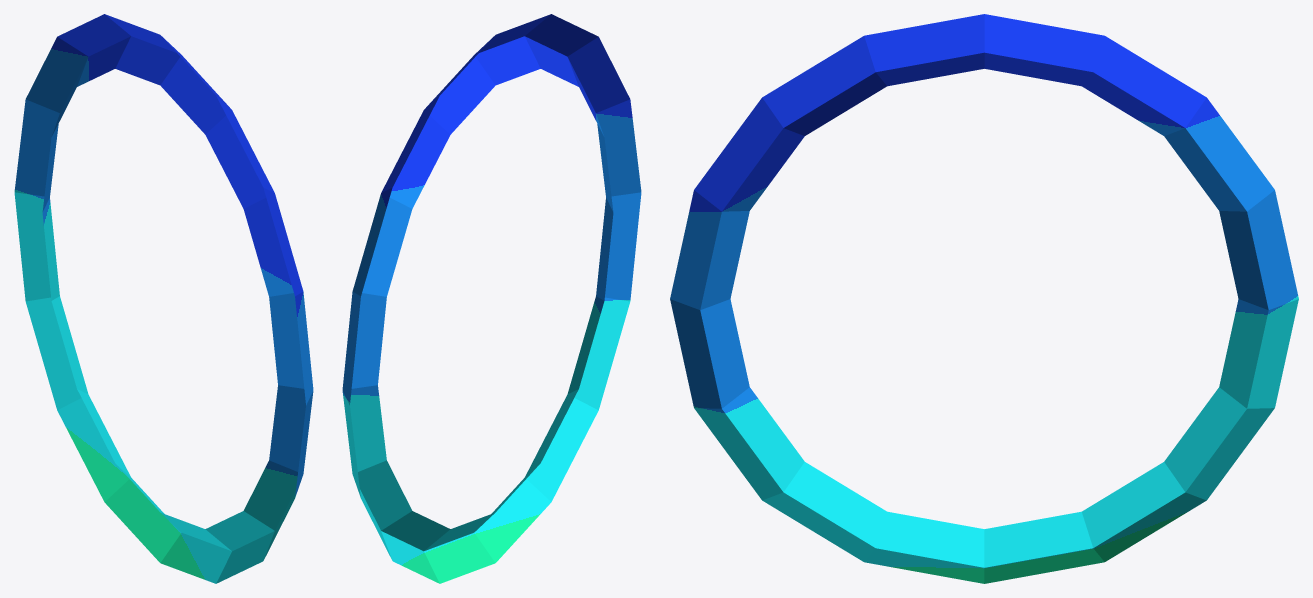
File: players_1.obj
3 views of the same model, side by side, from view 1: azimuth 30°, elevation 25°; view 2: azimuth 150°, elevation 25°; view 3: azimuth 270°, elevation 25° (orthographic). The views are drawn at different scales.
Parts seen in each view (by area): view 1: players_1; view 2: players_1; view 3: players_1.
Boxes of the visible parts, x1,y1,x2,y2 form: players_1: (14,14,313,583); players_1: (342,14,641,583); players_1: (670,14,1298,583).
Bounding box in the file's own units: 0.7948 × 18.73 × 18.73.
Materials: 1 (1 with a texture image).
